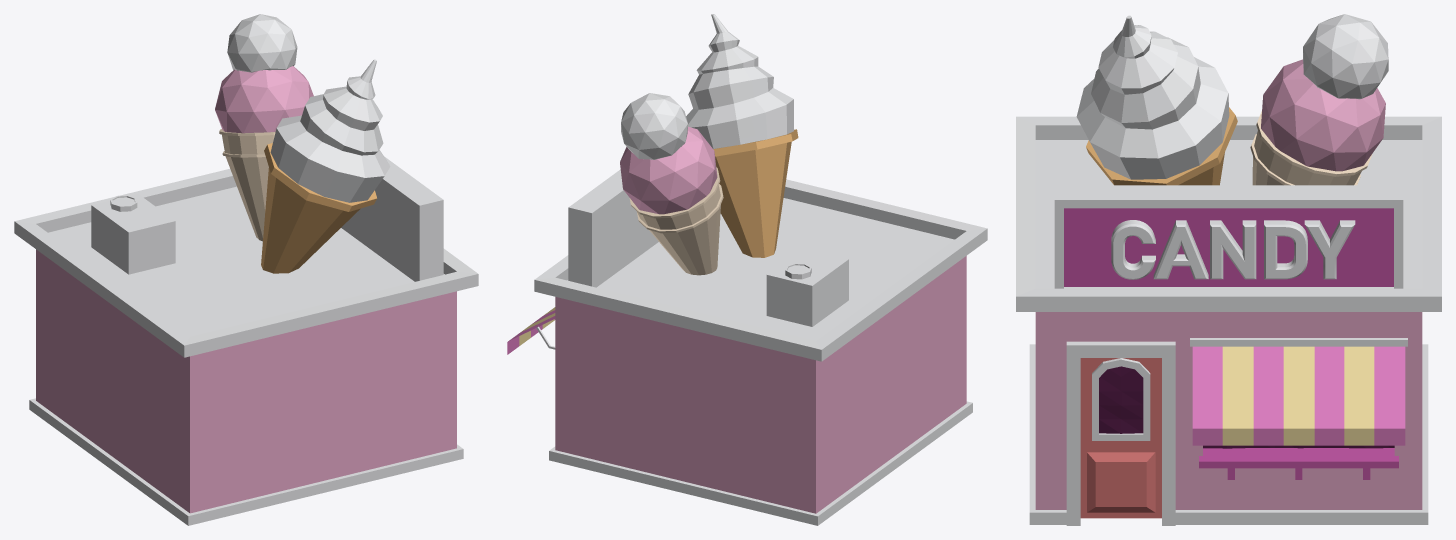
File: candy shop.fbx
3 views of the same model, side by side, from view 1: azimuth 30°, elevation 25°; view 2: azimuth 150°, elevation 25°; view 3: azimuth 270°, elevation 25° (orthographic). The views are drawn at different scales.
Parts seen in each view (by area): view 1: candy_shop1; view 2: candy_shop1; view 3: candy_shop1.
Boxes of the visible parts, x1,y1,x2,y2 form: candy_shop1: (14, 14, 478, 525); candy_shop1: (507, 14, 987, 525); candy_shop1: (1016, 14, 1441, 525).
Size of the model in its own units: 504 by 547 by 441.
